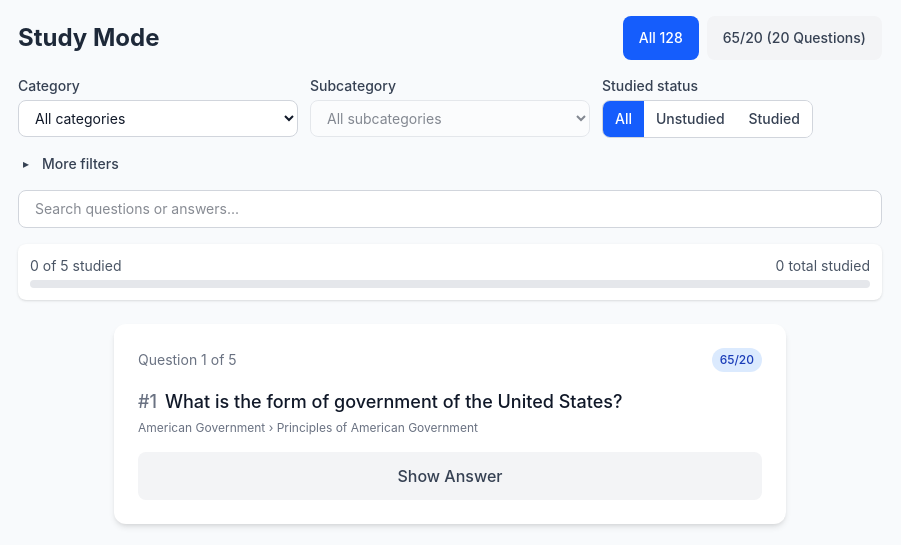
StudyPage filters › composes Category + search
Expected: the text "#1What is the form of government of the United States?" is shown, x1=138 y1=391 x2=622 y2=412
Select "American History" in the dropdown labelled "Category" at (158, 118), box x1=18 y1=100 x2=298 y2=137
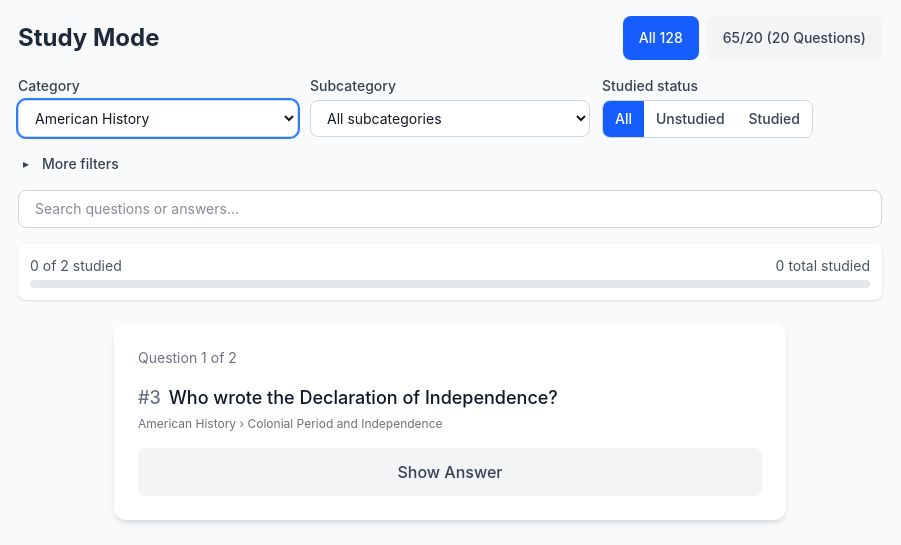
Type "civil" into the search field named "Search questions by keyword".
click(450, 209); type("civil")  # box x1=18 y1=190 x2=882 y2=228
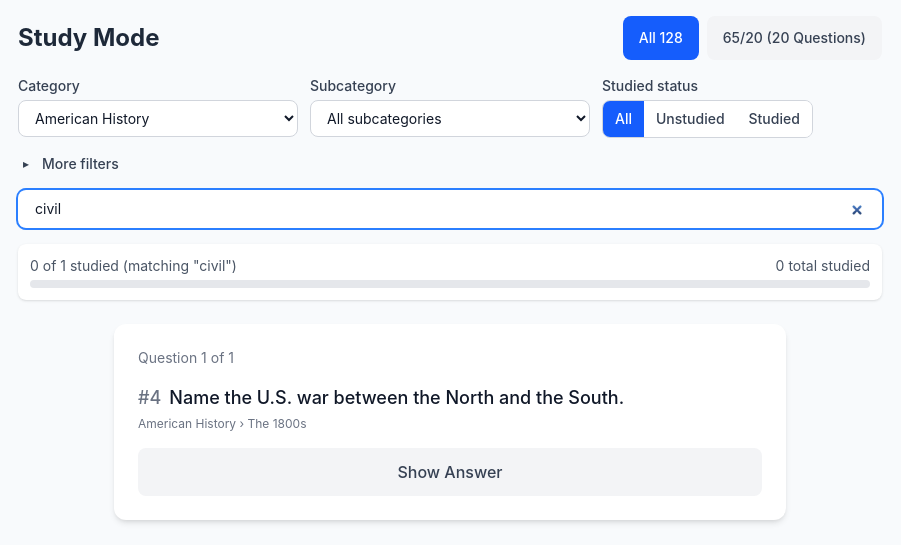
Result: the text "Question 1 of 1" is shown at x1=138 y1=348 x2=234 y2=368
Result: the text "#4Name the U.S. war between the North and the South." is shown at x1=138 y1=387 x2=624 y2=408
